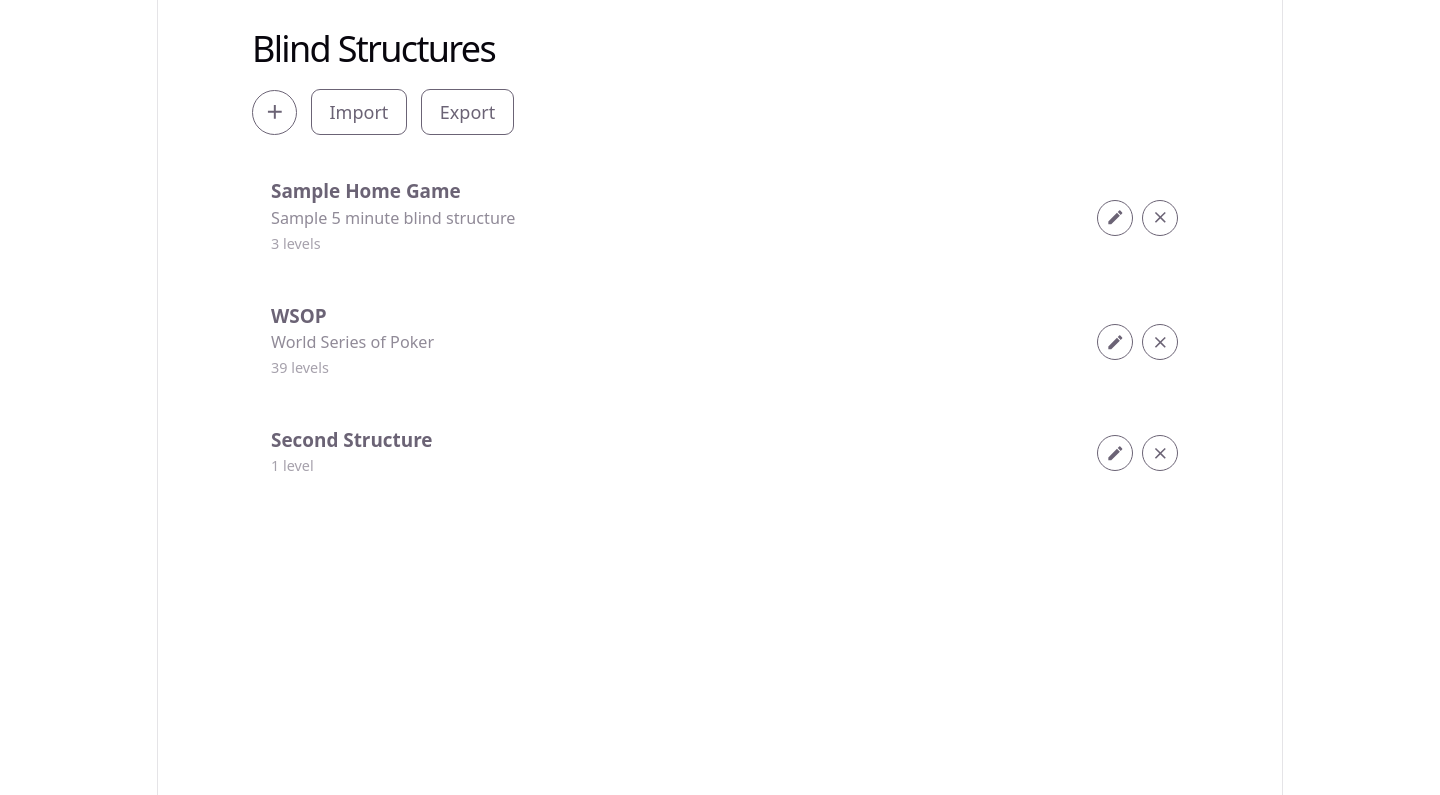
Test: SettingsPage › shows a Save/Discard/Cancel dialog when switching away from a dirty draft, and Cancel keeps editing
The image size is (1440, 795).
Click the button named "Edit Sample Home Game" at point(1115, 218), box [1097, 200, 1133, 236]
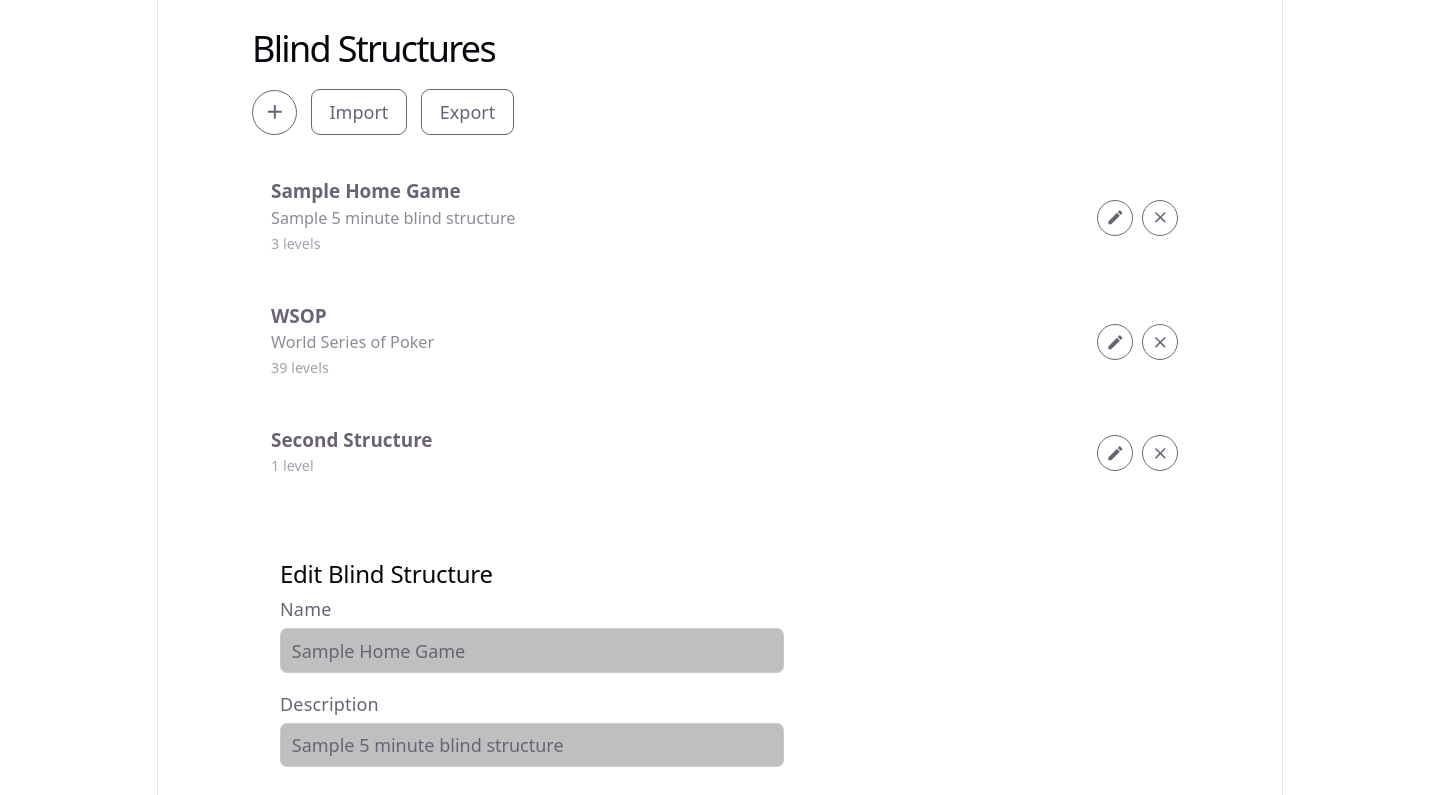
Replace the text in the field labelled "Name" with "Sample Home Game Edited" at point(532, 651), box [280, 628, 784, 673]
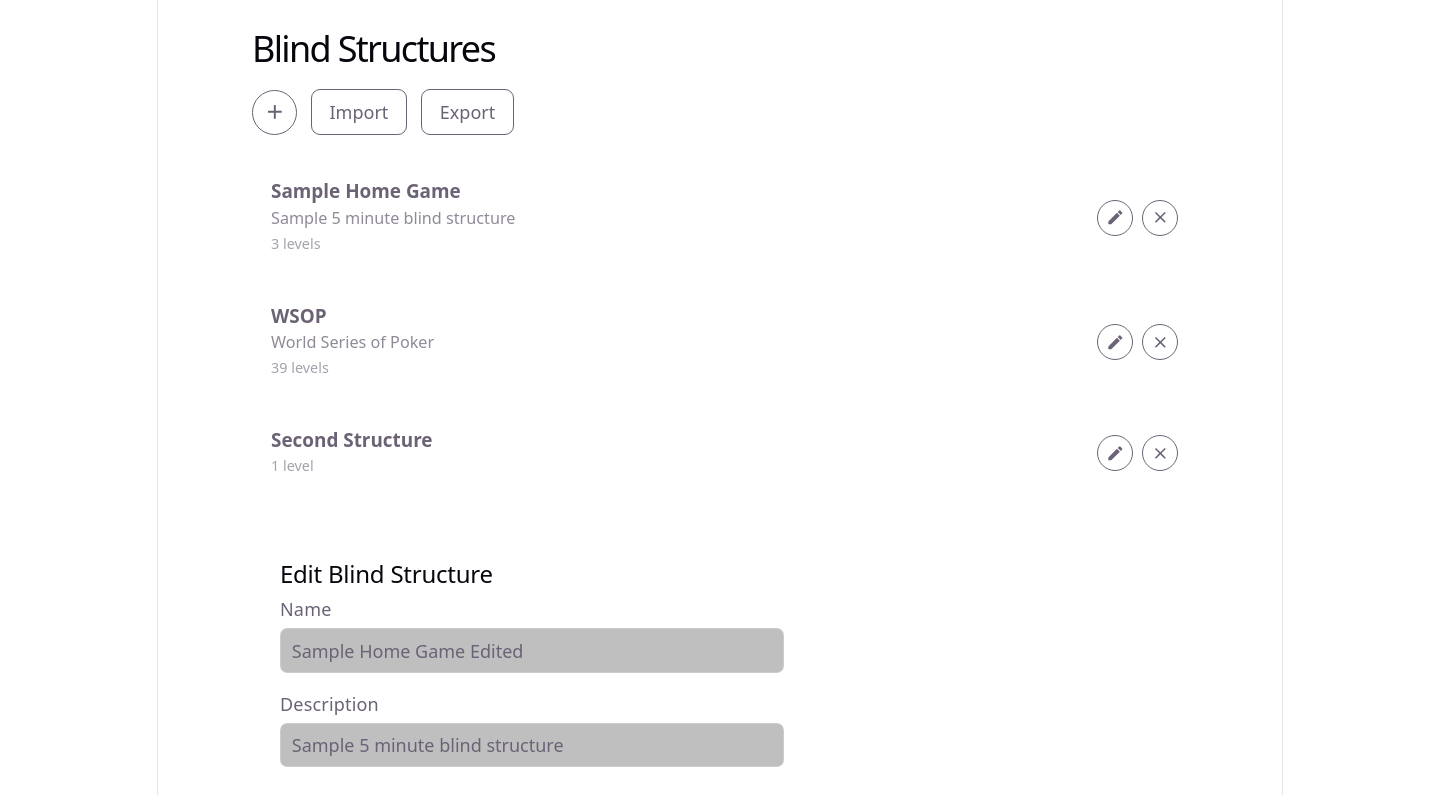
Click the button named "Edit Second Structure" at point(1115, 453), box [1097, 435, 1133, 471]
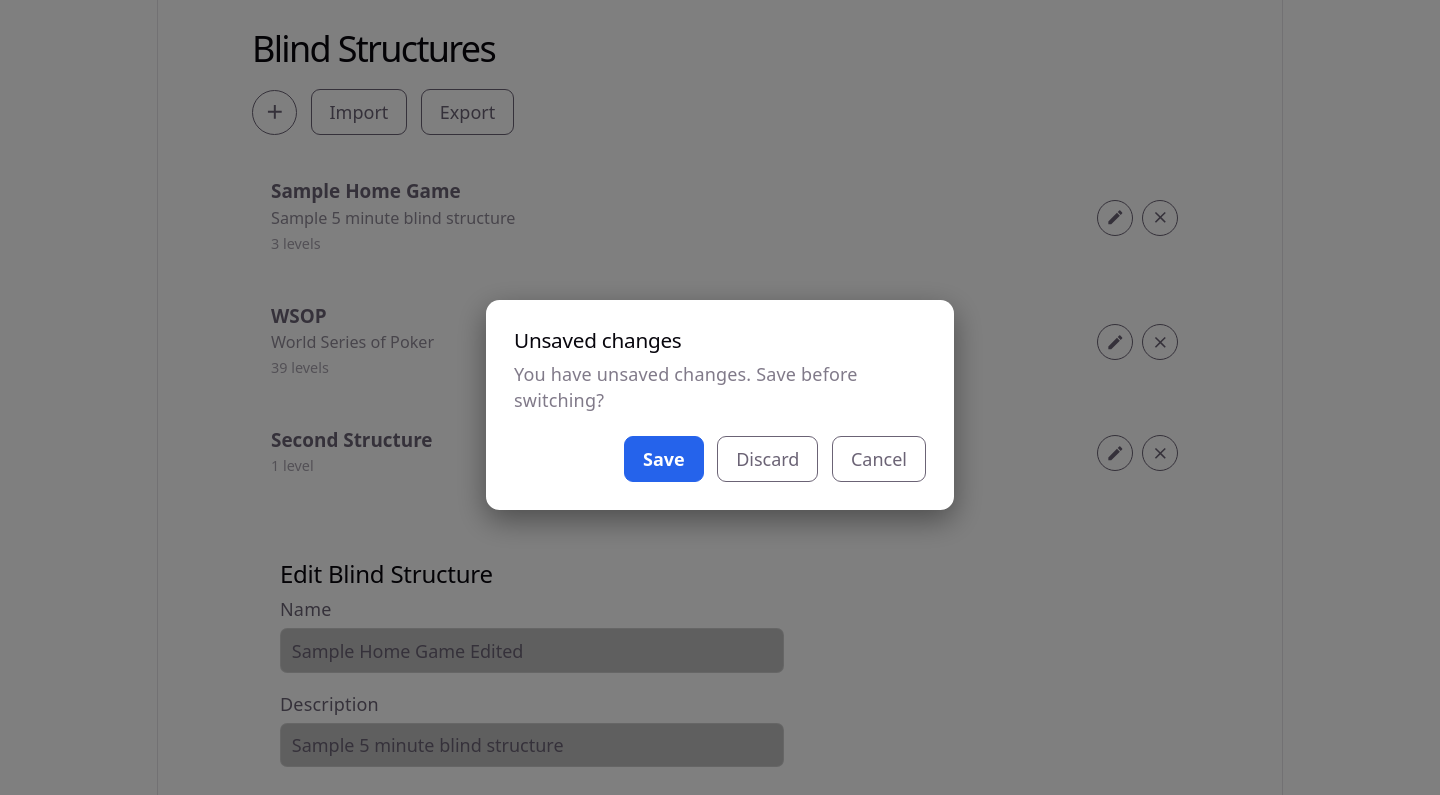
Expected: the text "You have unsaved changes. Save before switching?" is shown, [514, 362, 858, 412]
Click the button "Cancel" at point(879, 459), box [832, 436, 926, 482]
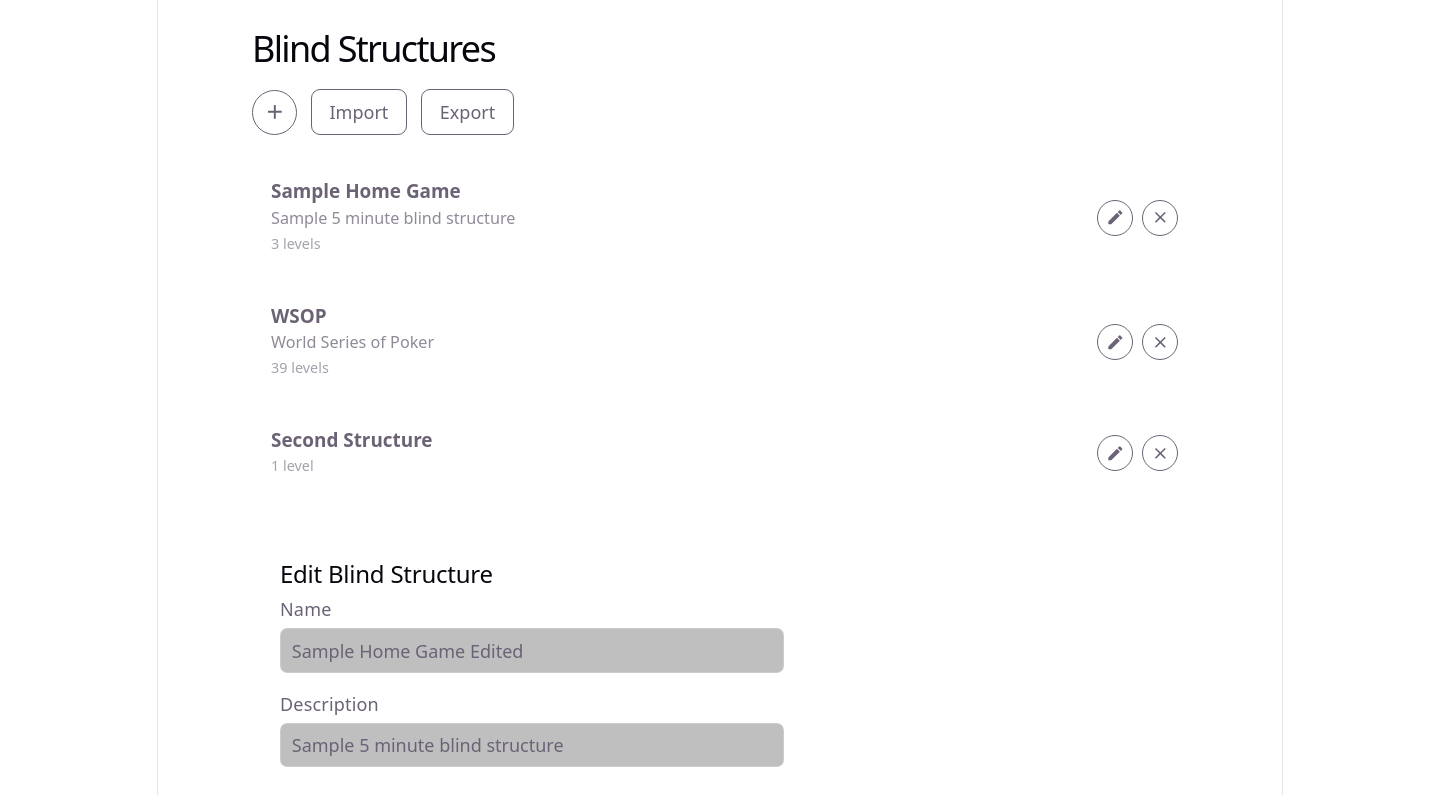
Expected: the dialog is gone
